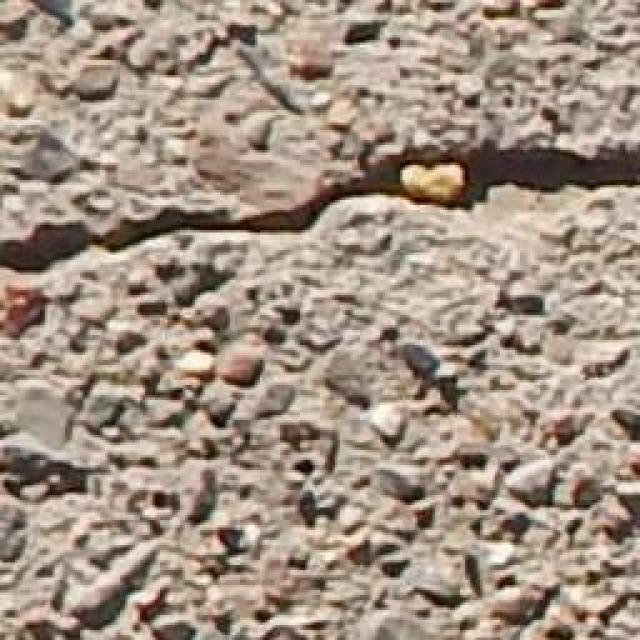concrete-crack: (0, 133, 639, 277)
